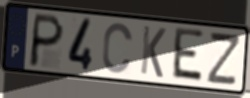4: (66, 15, 97, 75)
C: (101, 21, 135, 76)
E: (169, 25, 205, 85)
K: (139, 24, 168, 81)
P: (26, 12, 66, 70)
Z: (204, 32, 243, 88)
